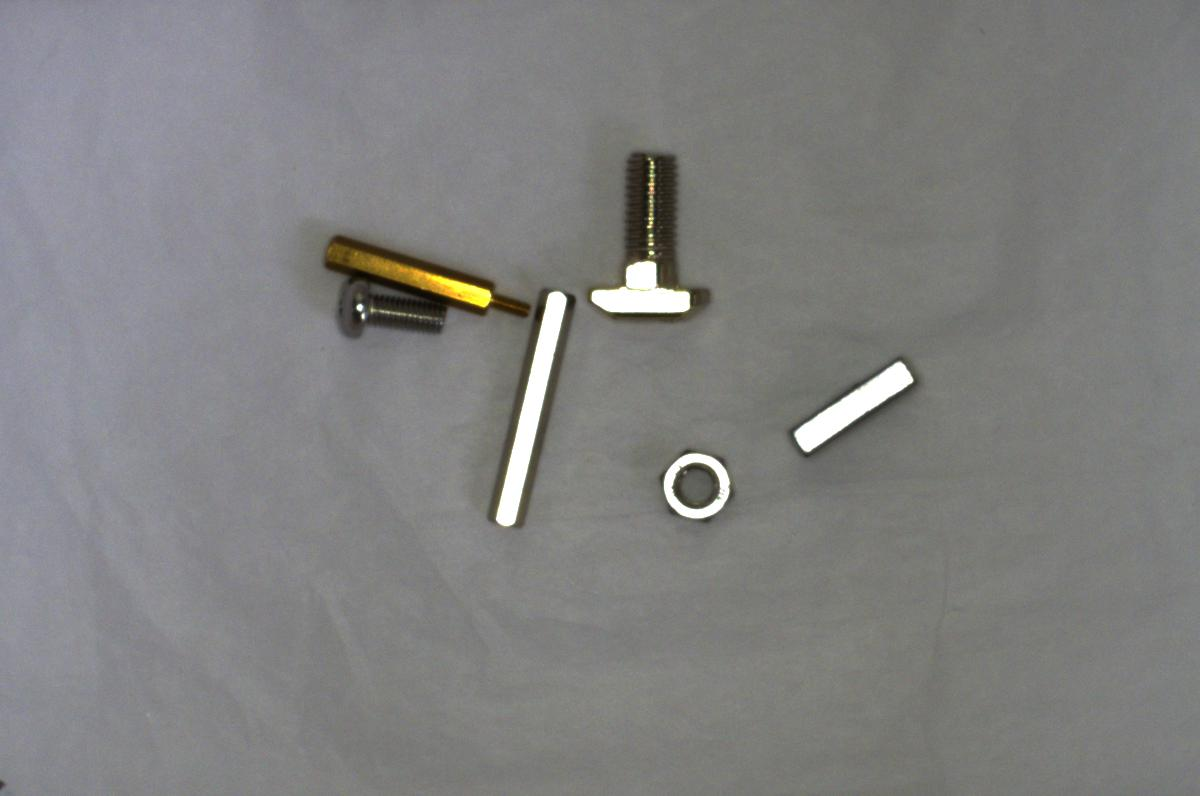Double hexagonal column: (486, 287, 575, 534)
Hexagon nut: (654, 441, 740, 529)
Hexagon pillar: (319, 228, 535, 321)
Rectangular nut: (788, 343, 919, 458)
Round head screw: (335, 270, 452, 348)
T-shaped screw: (581, 146, 725, 326)
